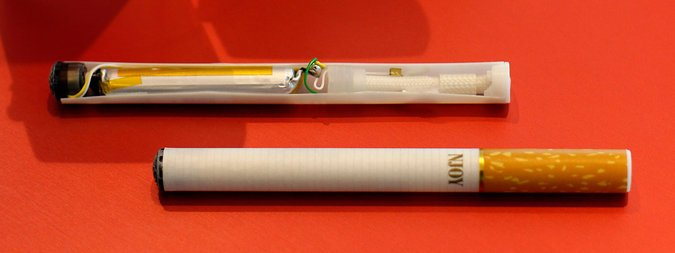cigarette: (139, 134, 671, 228)
